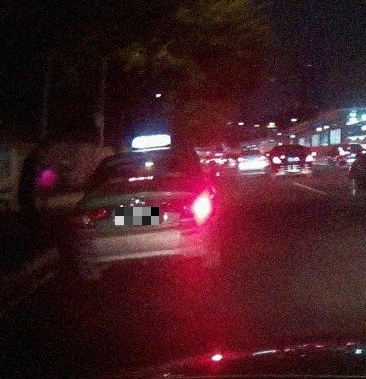L_light: (71, 206, 109, 228)
R_light: (179, 198, 217, 220)
T_light: (127, 175, 155, 182)
night-right: (70, 149, 218, 283)
plate_1: (115, 207, 159, 225)
